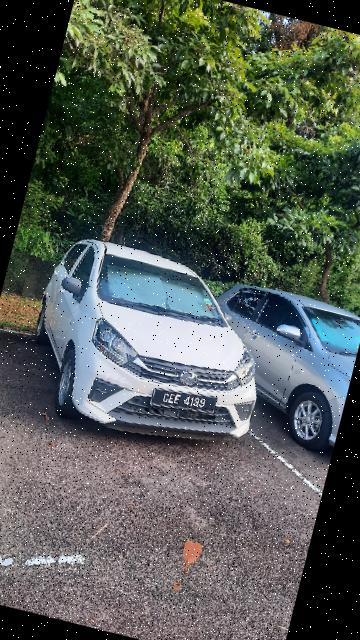License_Plate: (147, 381, 223, 423)
car: (14, 229, 289, 467)
